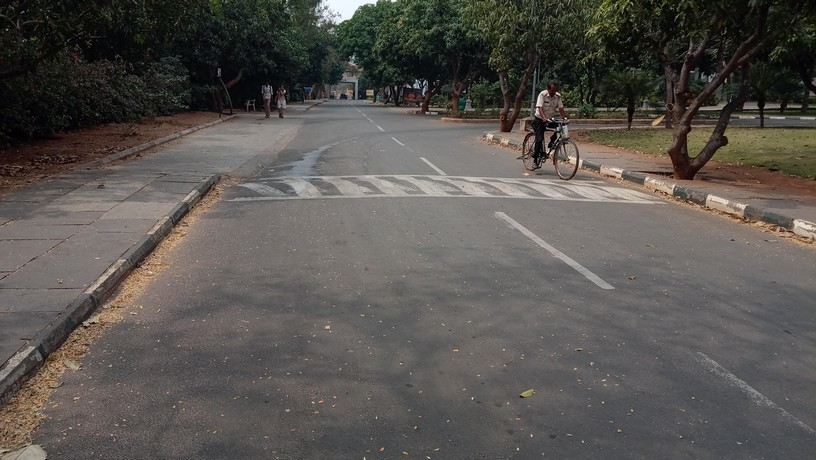bump: (219, 175, 673, 203)
